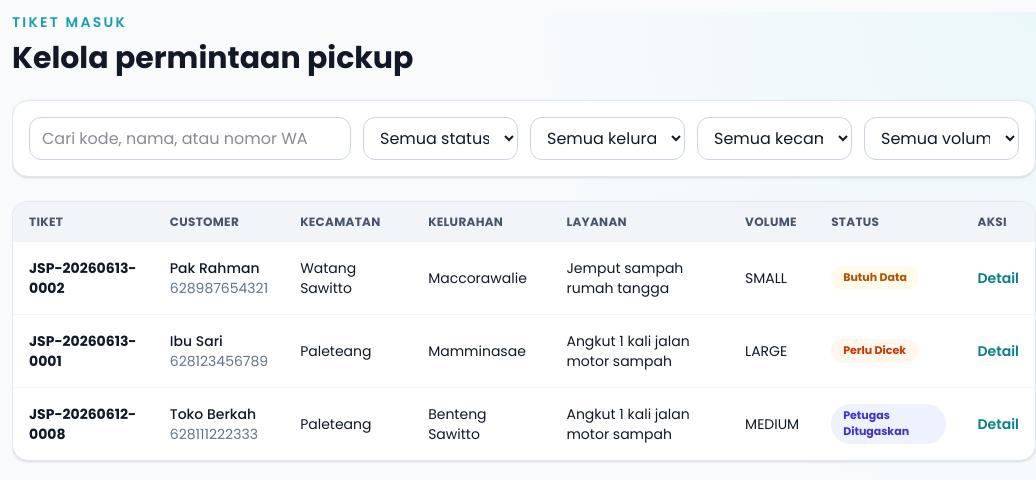
TicketsPage › memfilter tiket berdasarkan status
The image size is (1036, 480).
expect the text "Ibu Sari" is shown: met, box [170,331,223,351]
Select "Butuh Data" in the dropdown named "Filter status" at (440, 138), box [363,117,518,160]
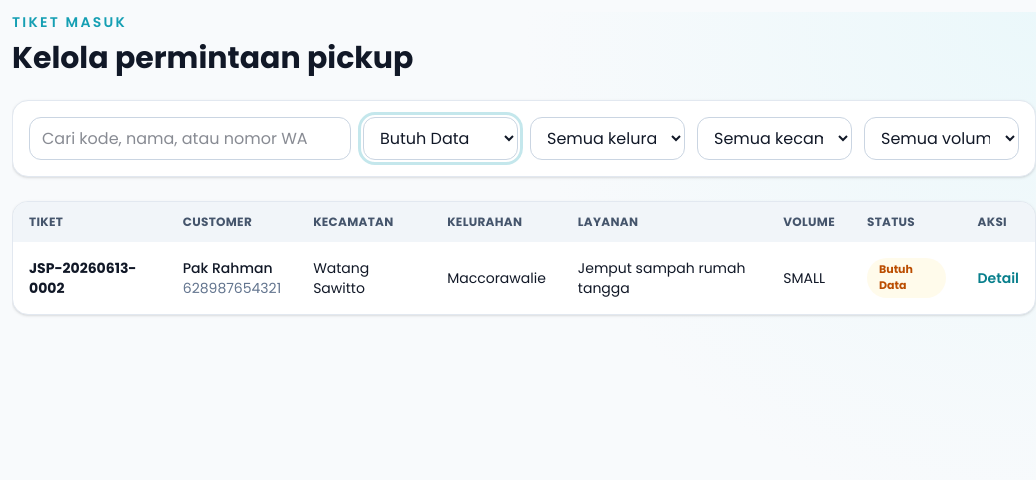
expect the text "Pak Rahman" is shown: met, box [183,258,281,278]
expect the text "Ibu Sari" is gone: met
